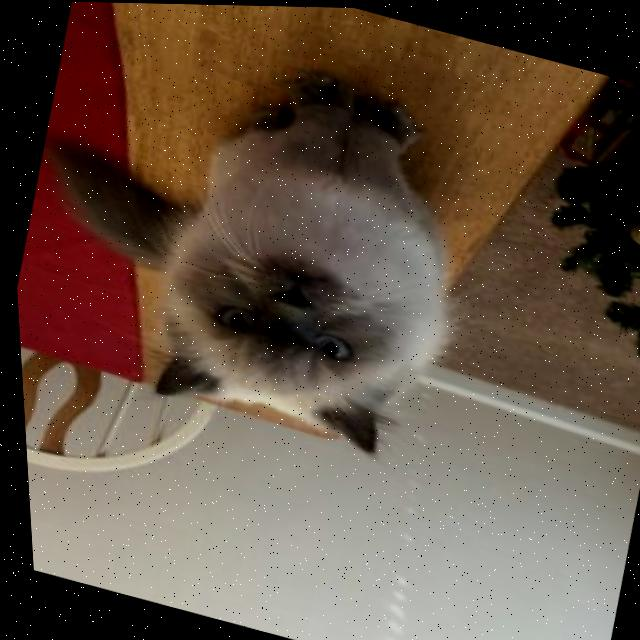Birman: (0, 1, 517, 475)
